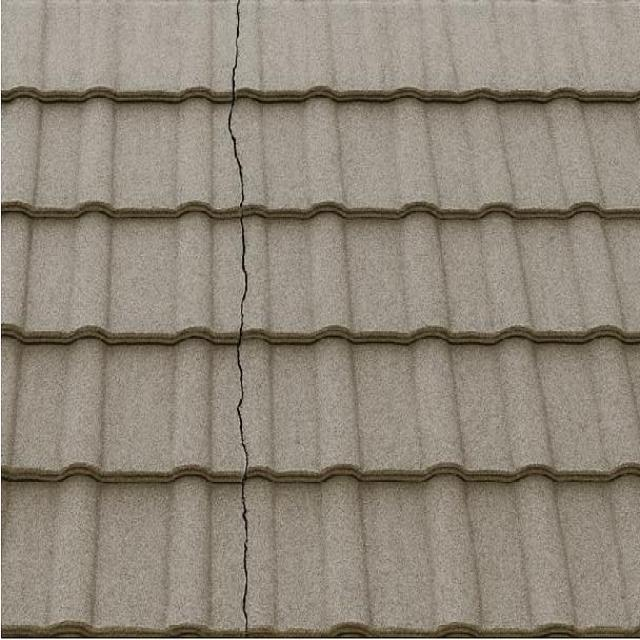fissure: (223, 1, 257, 640)
